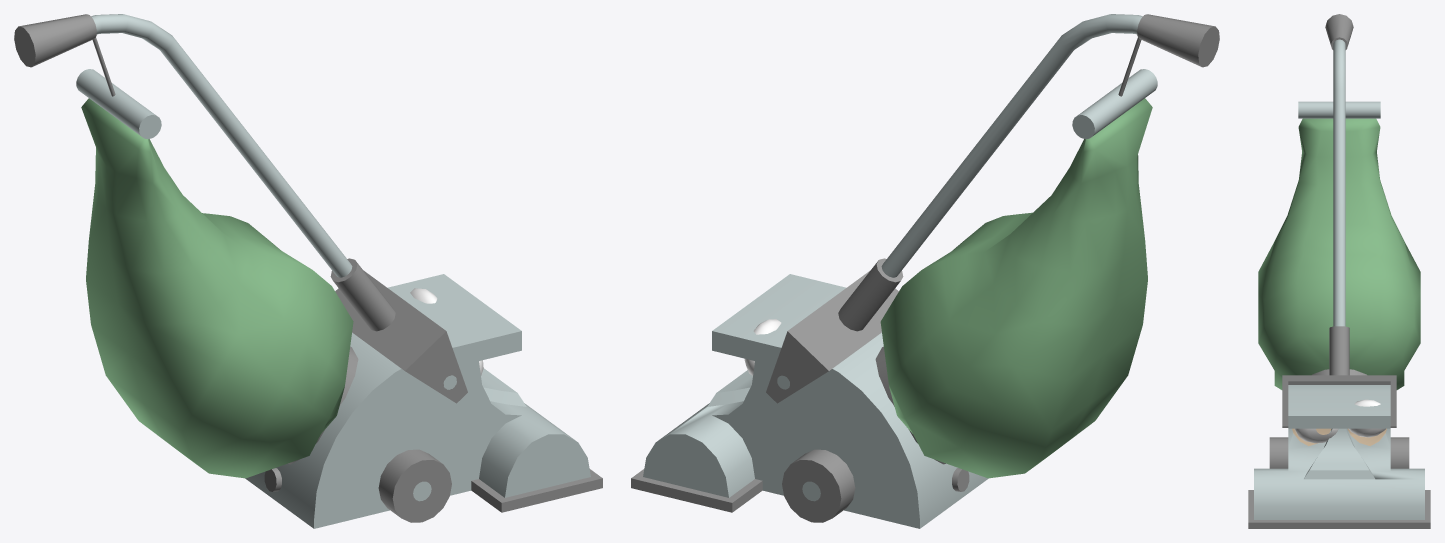
The model's file is KirbyInUse.fbx.
The picture shows the model from 3 angles, left to right: view 1: azimuth 30°, elevation 25°; view 2: azimuth 150°, elevation 25°; view 3: azimuth 270°, elevation 25°; orthographic projection. The views are drawn at different scales.
Visible parts, largest first — view 1: instance_2.001, group_3.015, group_1.013, group_1.016, group_4.003, group_1.017, group_7.001, group_1.012, group_3.017; view 2: instance_2.001, group_3.015, group_1.013, group_1.016, group_5.003, group_1.017, group_7.001, group_1.012, group_3.017; view 3: instance_2.001, group_3.015, group_1.013, group_3.017, group_1.016, group_7.001, group_1.012, group_1.017, group_4.003, group_5.003, group_8.001, group_8.000 (+1 smaller).
Boxes of the visible parts, <box> form: instance_2.001: <box>81,98,353,478</box>; group_3.015: <box>245,274,590,528</box>; group_1.013: <box>91,14,352,277</box>; group_1.016: <box>335,270,467,403</box>; group_4.003: <box>378,449,451,522</box>; group_1.017: <box>14,14,96,67</box>; group_7.001: <box>76,69,161,139</box>; group_1.012: <box>330,258,395,331</box>; group_3.017: <box>471,469,602,512</box>; instance_2.001: <box>880,98,1152,478</box>; group_3.015: <box>643,274,988,528</box>; group_1.013: <box>881,14,1142,277</box>; group_1.016: <box>766,270,898,403</box>; group_5.003: <box>782,449,855,522</box>; group_1.017: <box>1137,14,1219,67</box>; group_7.001: <box>1072,69,1157,139</box>; group_1.012: <box>838,258,903,331</box>; group_3.017: <box>631,469,762,512</box>; instance_2.001: <box>1258,118,1420,389</box>; group_3.015: <box>1254,385,1424,519</box>; group_1.013: <box>1333,39,1345,326</box>; group_3.017: <box>1248,490,1430,528</box>; group_1.016: <box>1282,375,1396,427</box>; group_7.001: <box>1298,101,1380,118</box>; group_1.012: <box>1329,326,1349,375</box>; group_1.017: <box>1325,14,1353,49</box>; group_4.003: <box>1269,437,1288,468</box>; group_5.003: <box>1390,437,1409,468</box>; group_8.001: <box>1295,428,1338,443</box>; group_8.000: <box>1348,399,1385,437</box>.
Size of the model in its own units: 73.39 by 74.3 by 34.57.
